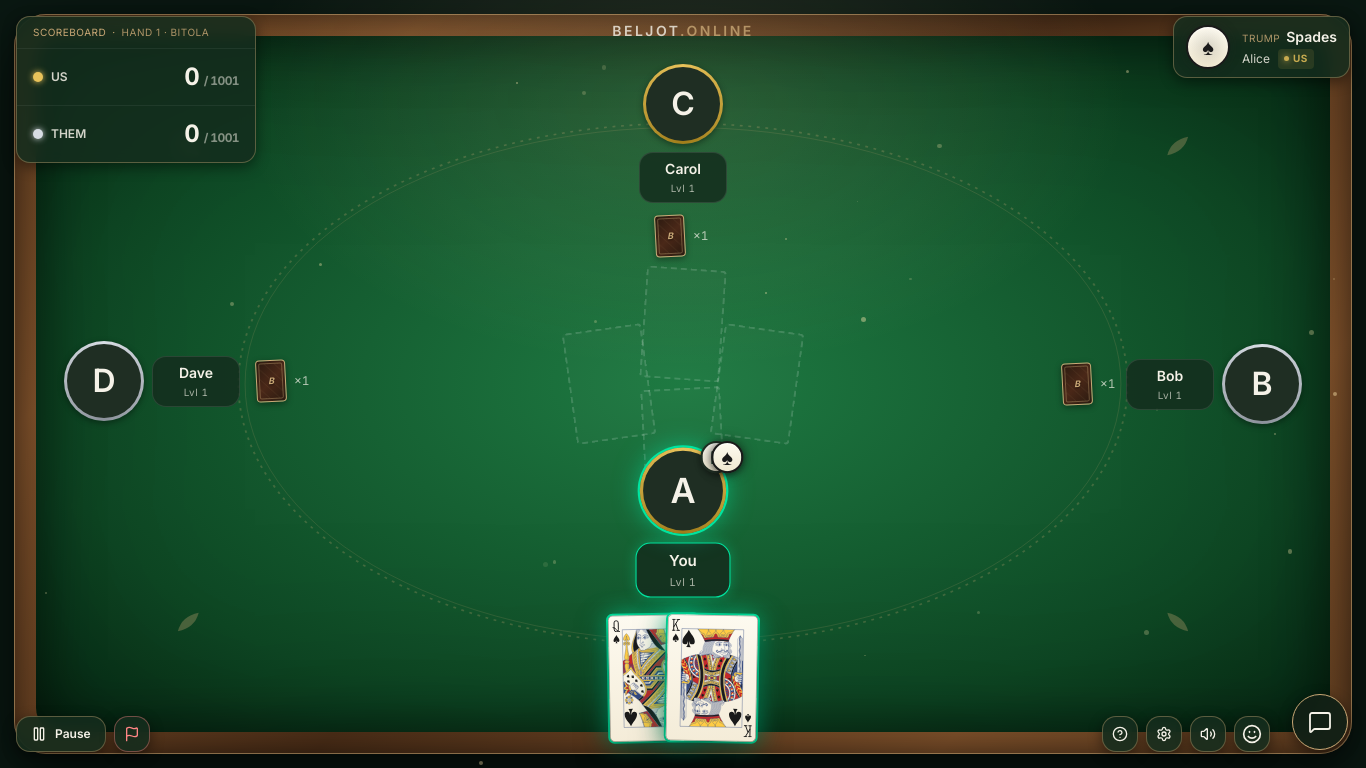
Test: MatchPage › belote/rebelote pre-play prompt › prompts to announce before throwing the belot card (no play_card sent yet)
Click the button with test id "playing-card-KS" at (712, 678), box top-left (666, 614), bottom-right (758, 741)
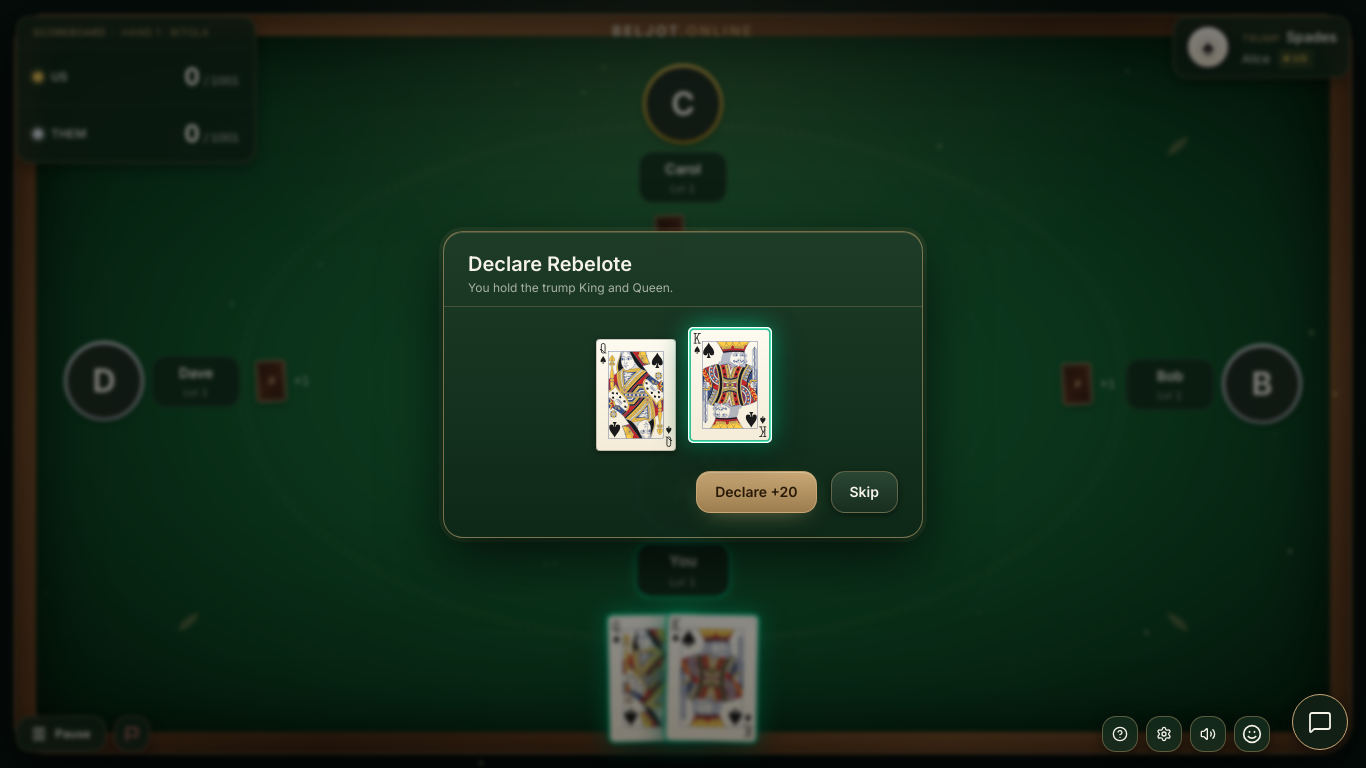
Expected: the element with test id "belot-prompt" is shown
